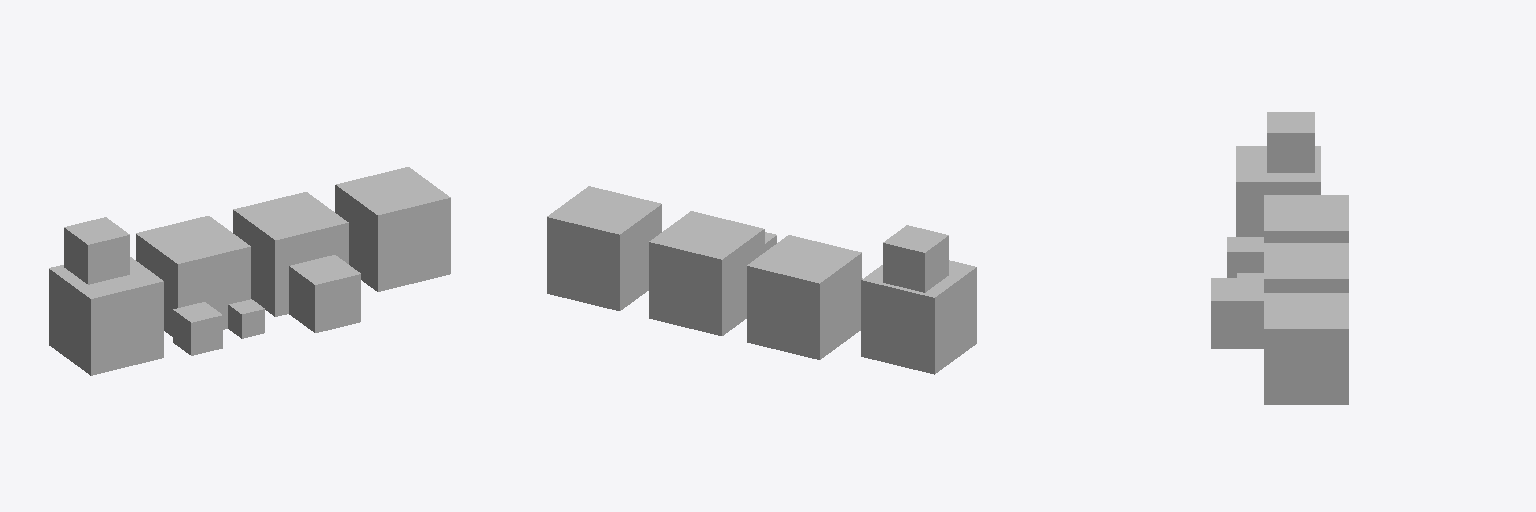
The model's file is Crates1_OBJ.obj.
3 views of the same model, side by side, from view 1: azimuth 30°, elevation 25°; view 2: azimuth 150°, elevation 25°; view 3: azimuth 270°, elevation 25° (orthographic).
Parts seen in each view (by area): view 1: Crates1 polySurface8, Crates1 polySurface3, polySurface1 Crates1, Crates1 polySurface7, Crates1 polySurface6, Crates1 polySurface2, Crates1 polySurface4, Crates1 polySurface5; view 2: polySurface1 Crates1, Crates1 polySurface8, Crates1 polySurface7, Crates1 polySurface3, Crates1 polySurface2; view 3: Crates1 polySurface8, Crates1 polySurface7, polySurface1 Crates1, Crates1 polySurface3, Crates1 polySurface6, Crates1 polySurface2, Crates1 polySurface4.
Part boxes in pixels (bbox=[...]): Crates1 polySurface8: bbox=[335, 167, 450, 291]; Crates1 polySurface3: bbox=[49, 257, 163, 375]; polySurface1 Crates1: bbox=[136, 216, 250, 336]; Crates1 polySurface7: bbox=[233, 192, 348, 316]; Crates1 polySurface6: bbox=[289, 255, 360, 332]; Crates1 polySurface2: bbox=[64, 217, 129, 284]; Crates1 polySurface4: bbox=[173, 302, 222, 355]; Crates1 polySurface5: bbox=[228, 299, 264, 338]; polySurface1 Crates1: bbox=[747, 235, 861, 359]; Crates1 polySurface8: bbox=[547, 186, 661, 310]; Crates1 polySurface7: bbox=[649, 211, 764, 335]; Crates1 polySurface3: bbox=[861, 260, 976, 374]; Crates1 polySurface2: bbox=[883, 225, 948, 292]; Crates1 polySurface8: bbox=[1264, 293, 1348, 404]; Crates1 polySurface7: bbox=[1264, 243, 1348, 292]; polySurface1 Crates1: bbox=[1264, 195, 1348, 242]; Crates1 polySurface3: bbox=[1236, 146, 1320, 236]; Crates1 polySurface6: bbox=[1211, 278, 1263, 348]; Crates1 polySurface2: bbox=[1267, 112, 1314, 172]; Crates1 polySurface4: bbox=[1227, 237, 1263, 277].
Size of the model in its own units: 8.68 by 2.59 by 2.76.